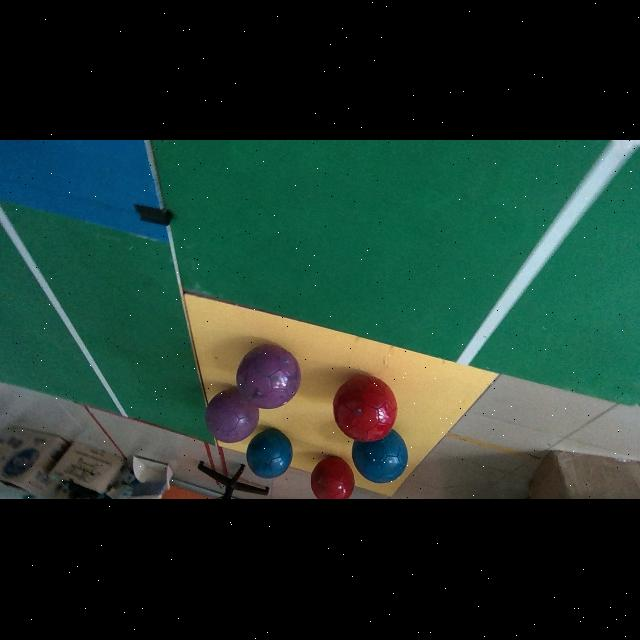B: (352, 431, 408, 484), (246, 431, 292, 480)
P: (236, 346, 301, 410), (205, 389, 259, 444)
R: (333, 377, 397, 442), (311, 458, 353, 500)
